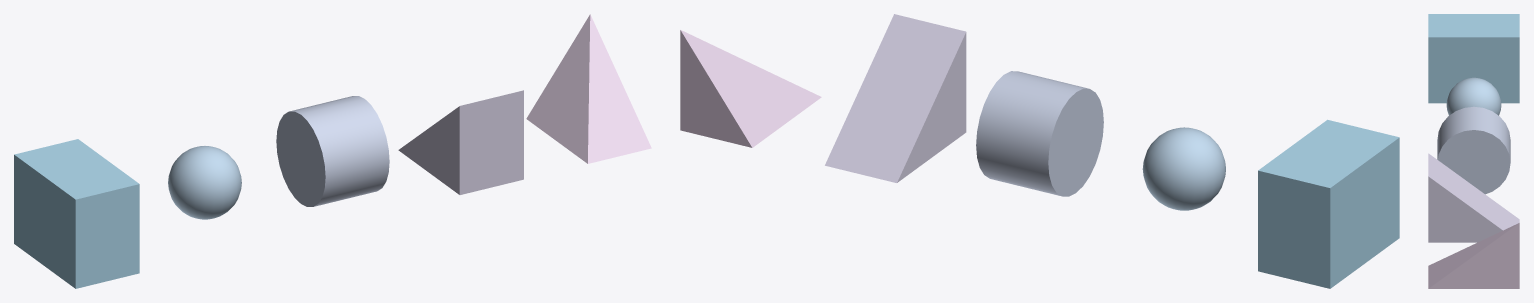
File: native.glb
3 views of the same model, side by side, from view 1: azimuth 30°, elevation 25°; view 2: azimuth 150°, elevation 25°; view 3: azimuth 270°, elevation 25° (orthographic). The views are drawn at different scales.
Visible parts, largest first — view 1: Block, Cylinder, CornerWedgePart, WedgePart, Ball; view 2: Block, WedgePart, Cylinder, CornerWedgePart, Ball; view 3: Block, Cylinder, WedgePart, CornerWedgePart, Ball.
Part boxes in pixels (left/top/right/bottom): Block: left=14, top=139, right=139, bottom=288; Cylinder: left=276, top=96, right=389, bottom=206; CornerWedgePart: left=526, top=14, right=651, bottom=163; WedgePart: left=398, top=90, right=523, bottom=194; Ball: left=168, top=146, right=241, bottom=219; Block: left=1258, top=119, right=1399, bottom=288; WedgePart: left=825, top=14, right=966, bottom=182; Cylinder: left=976, top=71, right=1103, bottom=196; CornerWedgePart: left=680, top=30, right=821, bottom=147; Ball: left=1142, top=127, right=1225, bottom=210; Block: left=1428, top=14, right=1519, bottom=103; Cylinder: left=1437, top=106, right=1510, bottom=194; WedgePart: left=1428, top=153, right=1519, bottom=242; CornerWedgePart: left=1428, top=223, right=1519, bottom=288; Ball: left=1446, top=77, right=1501, bottom=115.
Size of the model in its own units: 27 by 4 by 5.
